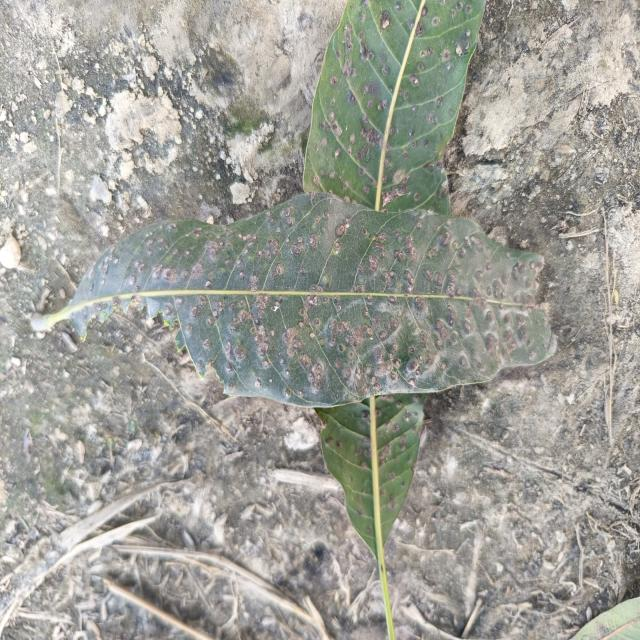gall midge: (208, 237, 343, 374), (375, 249, 486, 368)
